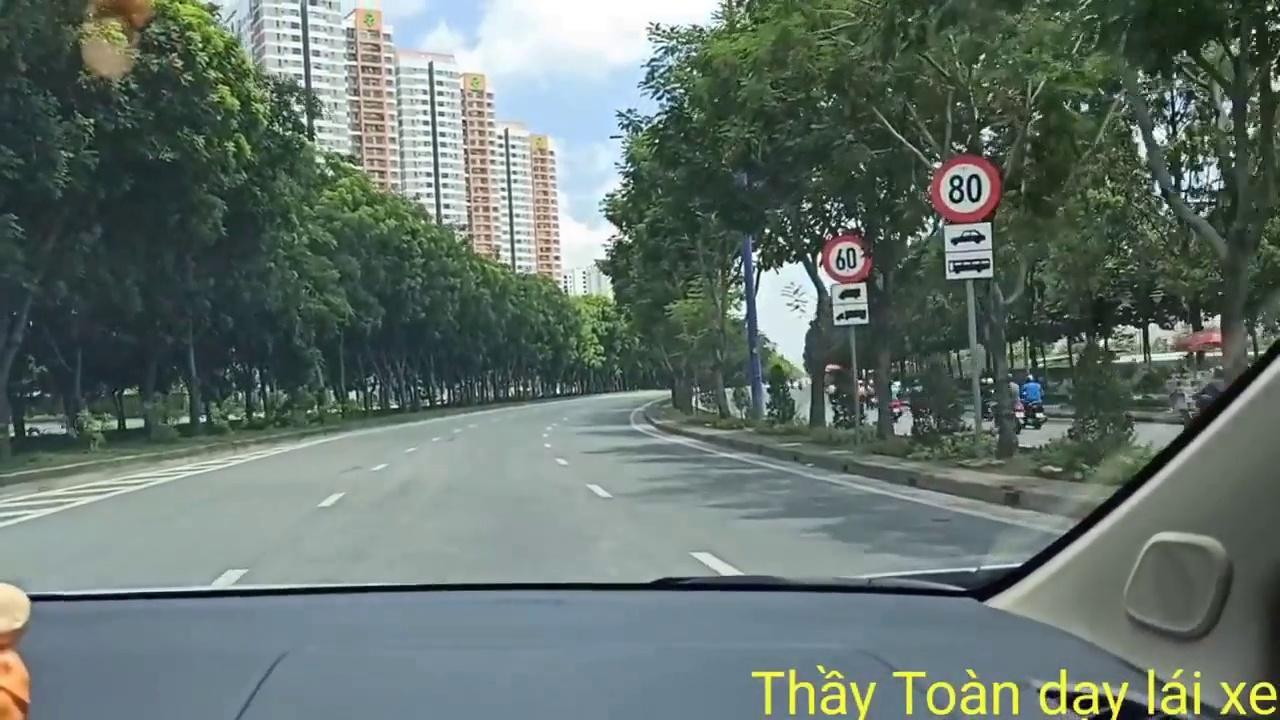Biển phụ: (941, 223, 993, 281), (830, 284, 869, 324)
GIơi hạn tốc độ 60Km/h: (821, 230, 876, 284)
Giới hạn tốc độ 80Km/h: (927, 152, 1003, 224)
